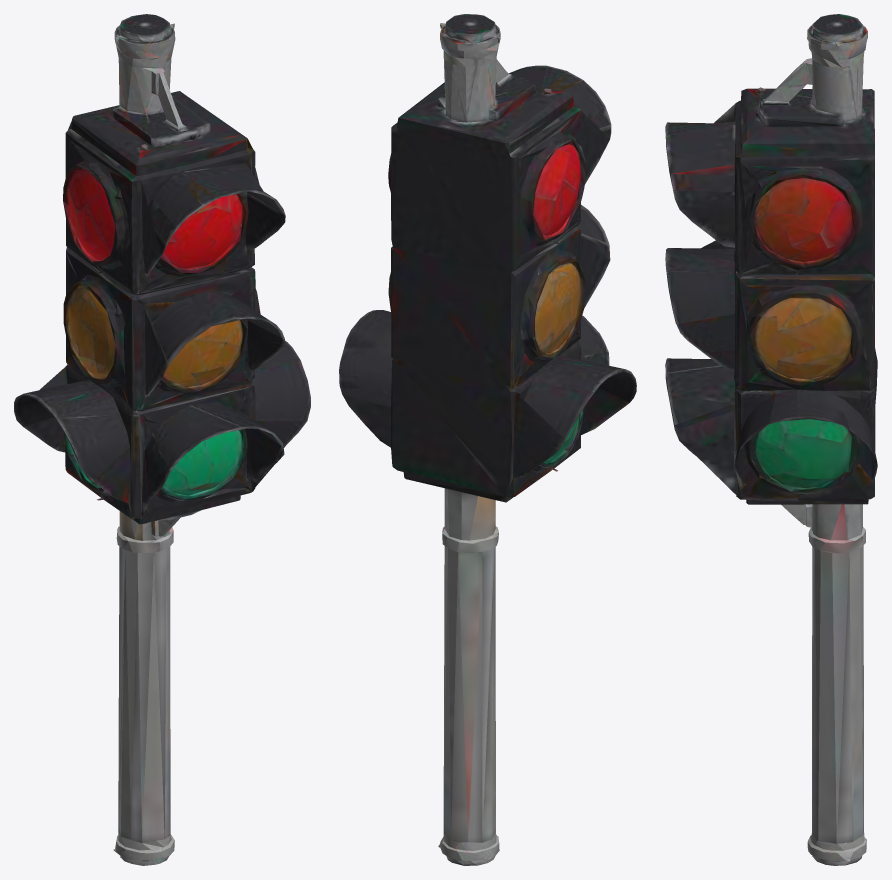
File: signal.glb
The picture shows the model from 3 angles, left to right: view 1: azimuth 30°, elevation 25°; view 2: azimuth 150°, elevation 25°; view 3: azimuth 270°, elevation 25°; orthographic projection.
Parts seen in each view (by area): view 1: output_unwrapped; view 2: output_unwrapped; view 3: output_unwrapped.
Part boxes in pixels (x1,y1,x2,y2): output_unwrapped: (14,14,310,865); output_unwrapped: (339,14,636,865); output_unwrapped: (665,14,877,865).
Bounding box in the file's own units: 0.5882 × 1.9 × 0.4404.
1 material, 1 textured.
